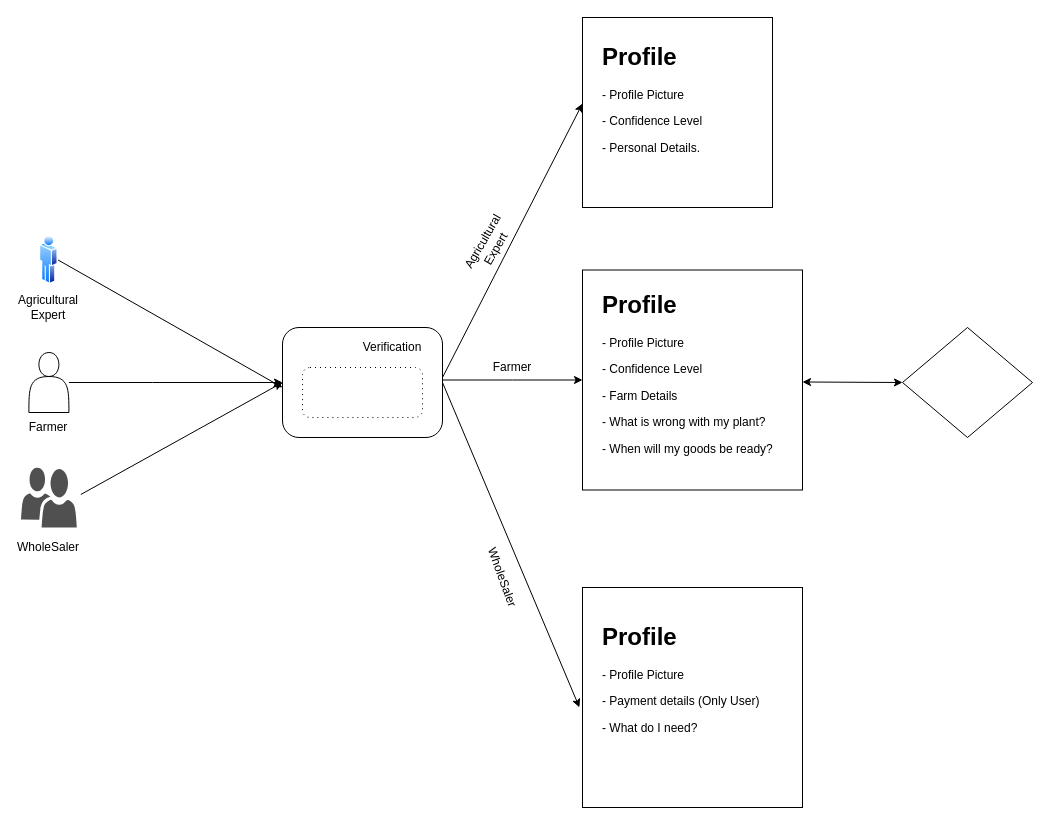
This 1050x825 diagram has some shape labels left out. The centre of each missing label's shape, as x and y in pixels:
"Model" belongs at point 967,382.
"User Registration" belongs at point 362,392.
